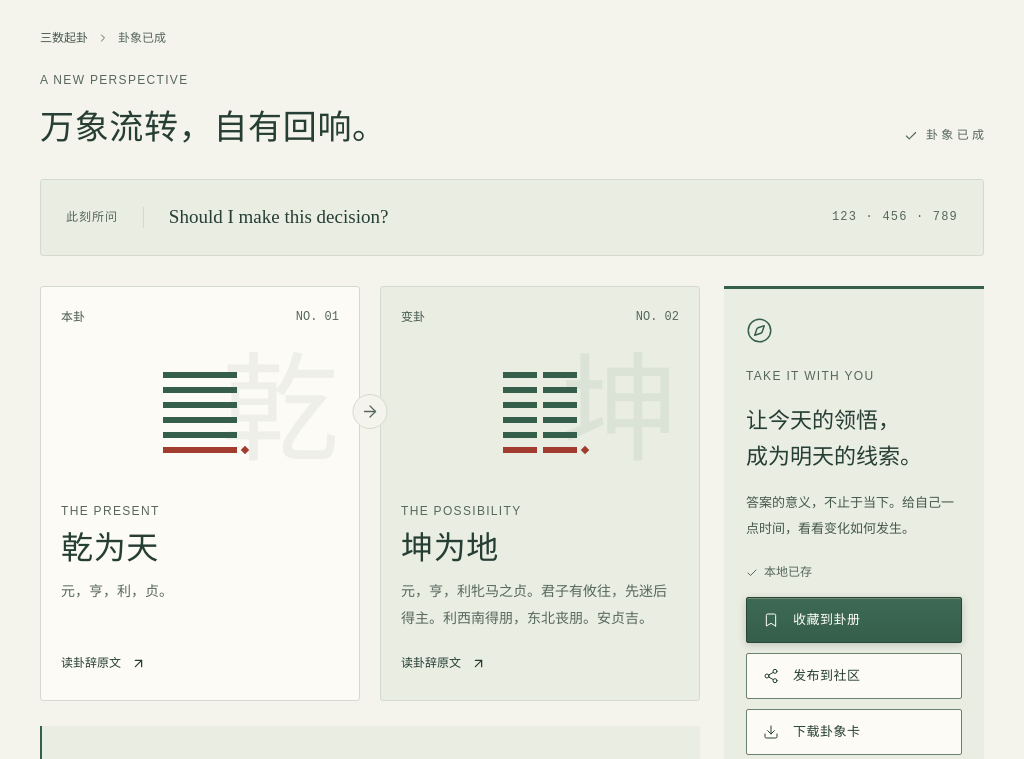
Test: ResultDisplay › falls back to a local-only toast when the cloud save fails
The image size is (1024, 759).
Click the button "收藏到卦册". click: point(854, 620)
box: [746,597,962,643]
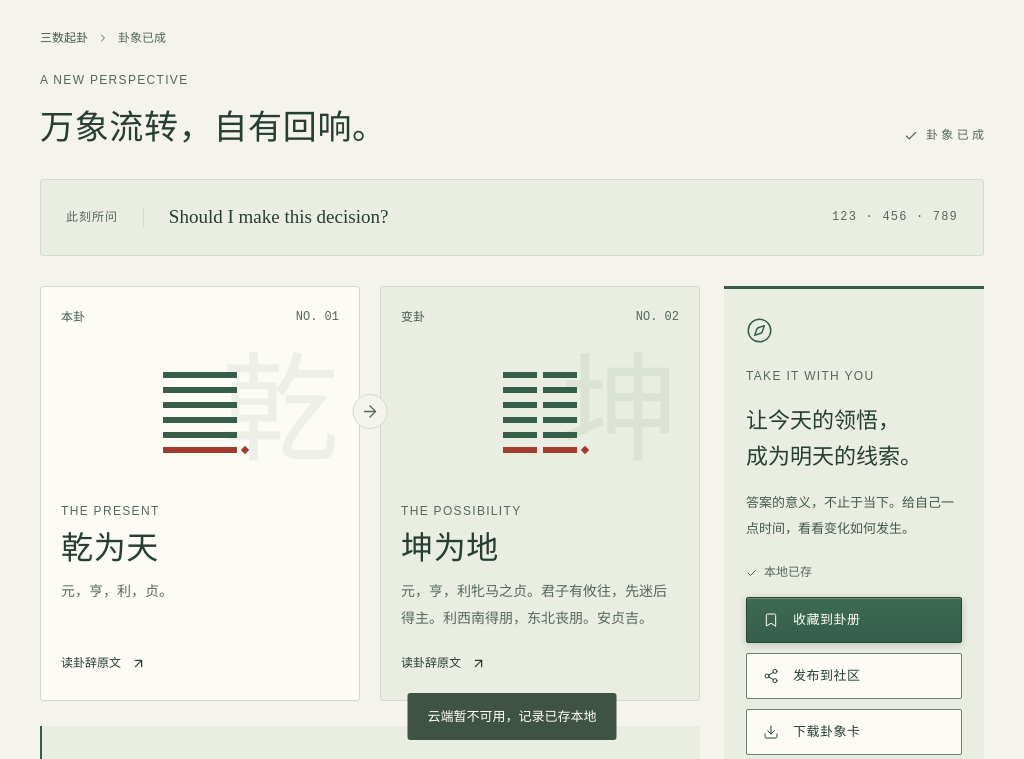
Result: the text "云端暂不可用，记录已存本地" is shown at [408,693,616,740]
